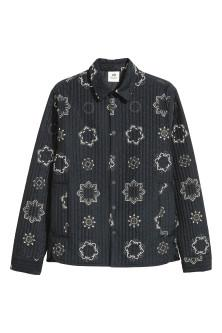teeshirt: (4, 56, 214, 278)
